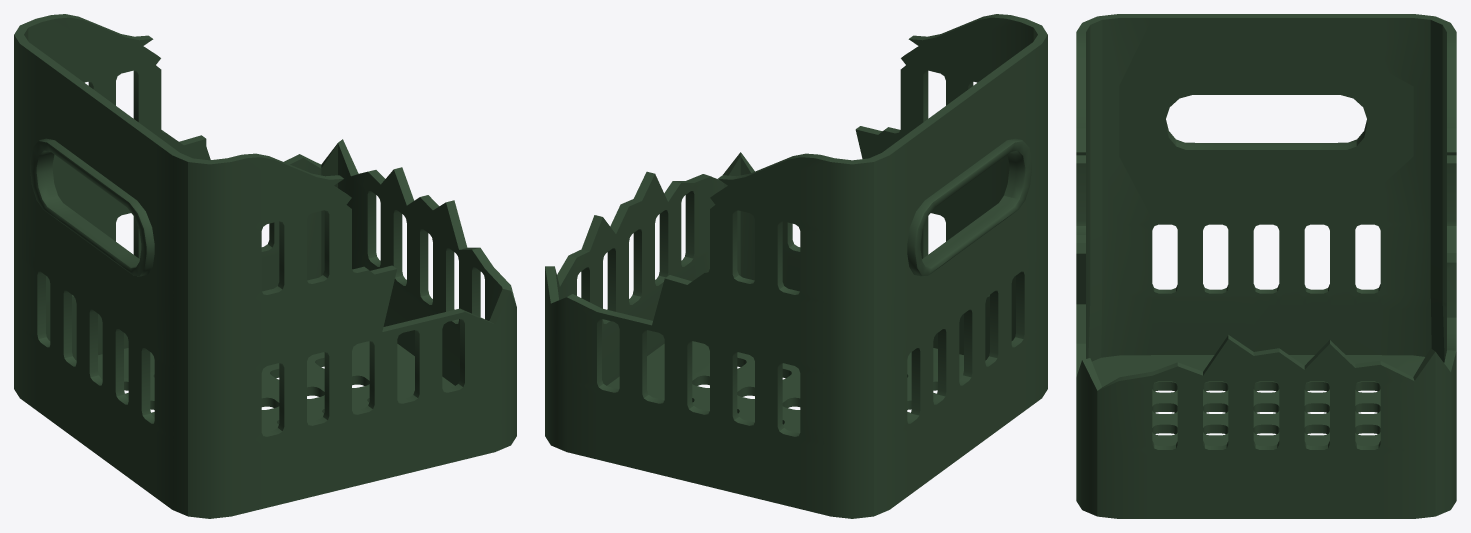
Rendered from 23PlasticBasket.fbx.
3 renders of one model, left to right at view 1: azimuth 30°, elevation 25°; view 2: azimuth 150°, elevation 25°; view 3: azimuth 270°, elevation 25°, orthographic. The views are drawn at different scales.
Visible parts, largest first — view 1: PlasticBasket23broken; view 2: PlasticBasket23broken; view 3: PlasticBasket23broken.
Part boxes in pixels (x1,y1,x2,y2): PlasticBasket23broken: (14,14,516,518); PlasticBasket23broken: (545,14,1047,518); PlasticBasket23broken: (1076,14,1456,518).
Bounding box in the file's own units: 205 × 200 × 200.
